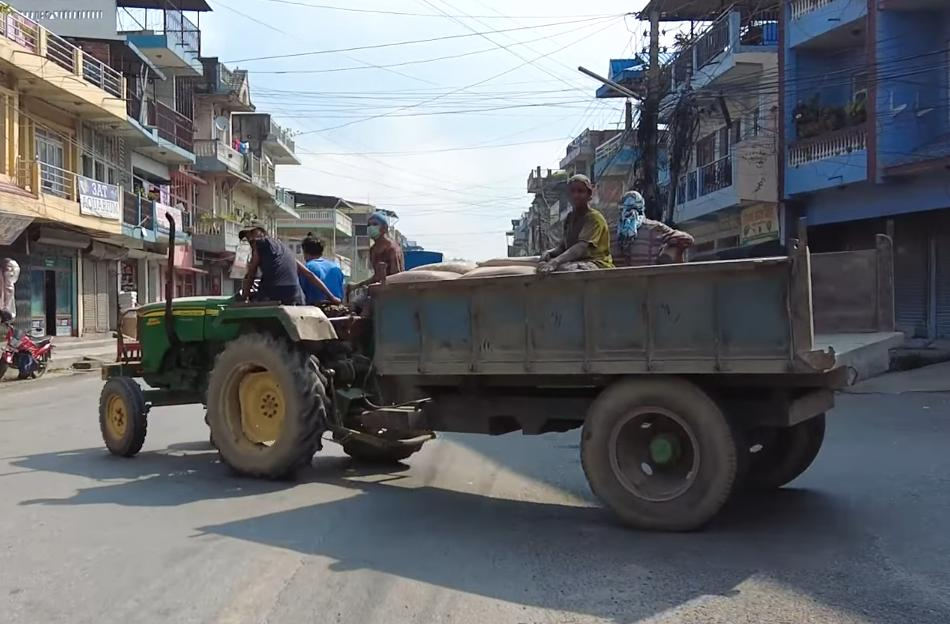bike: (0, 312, 57, 386)
tractor: (87, 204, 437, 492)
